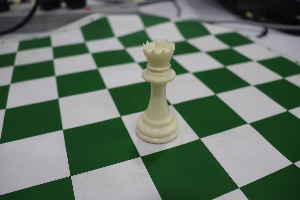white_queen: (125, 28, 194, 150)
